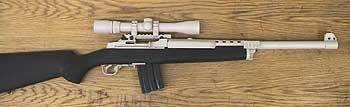heavyweapon: (0, 12, 346, 100)
